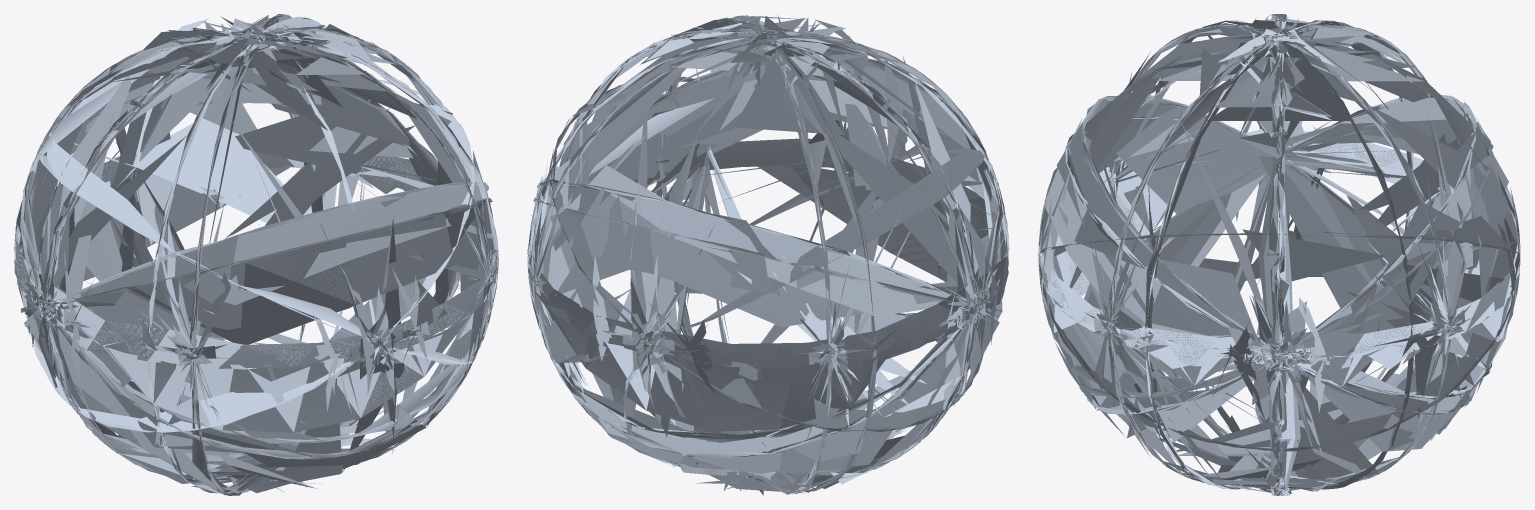
The picture shows the model from 3 angles, left to right: view 1: azimuth 30°, elevation 25°; view 2: azimuth 150°, elevation 25°; view 3: azimuth 270°, elevation 25°; orthographic projection.
Parts seen in each view (by area): view 1: 2B-25B-structural; view 2: 2B-25B-structural; view 3: 2B-25B-structural.
Part boxes in pixels (<box>): 2B-25B-structural: <box>14,14,498,495</box>; 2B-25B-structural: <box>527,15,1009,495</box>; 2B-25B-structural: <box>1038,14,1520,495</box>.
Bounding box in the file's own units: 2 × 2 × 2.
